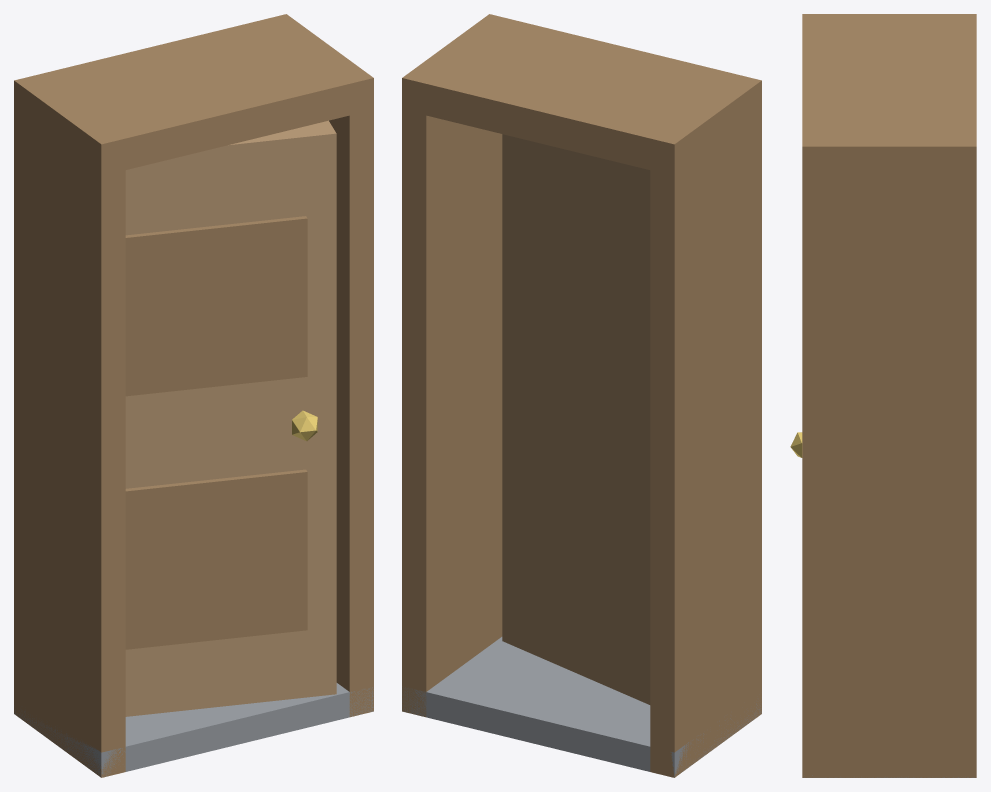
File: animprop_door_01.glb
The picture shows the model from 3 angles, left to right: view 1: azimuth 30°, elevation 25°; view 2: azimuth 150°, elevation 25°; view 3: azimuth 270°, elevation 25°; orthographic projection.
Parts seen in each view (by area): view 1: animprop; view 2: animprop; view 3: animprop.
Boxes of the visible parts, x1,y1,x2,y2 form: animprop: (14, 14, 373, 777); animprop: (402, 14, 761, 777); animprop: (790, 14, 976, 777).
Size of the model in its own units: 0.9 by 2 by 0.5344.
